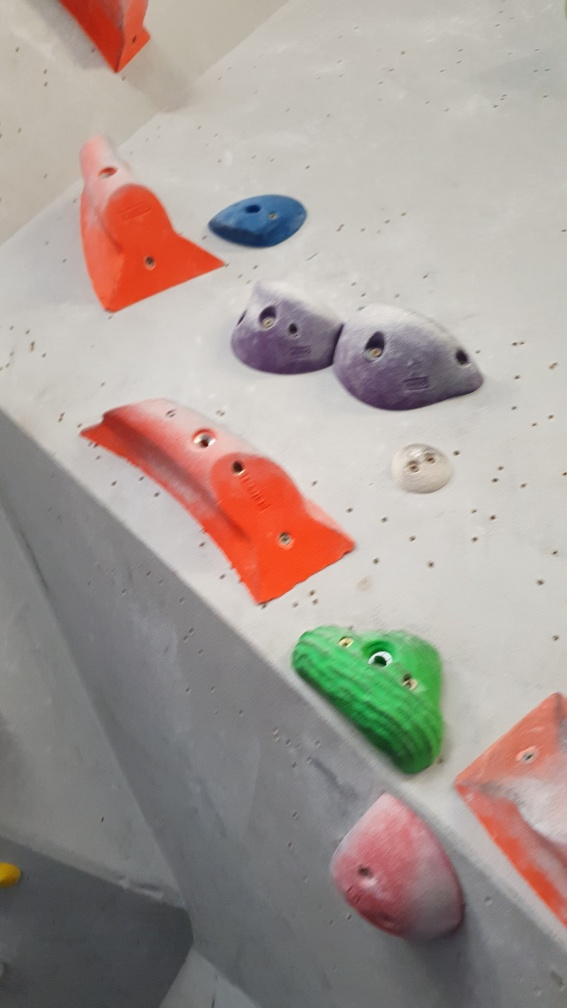Crimp: (205, 192, 311, 254)
Jug: (290, 621, 453, 773), (335, 304, 491, 409), (227, 275, 349, 380)
Pinch: (81, 395, 358, 609), (73, 132, 233, 315), (449, 692, 567, 934), (46, 1, 156, 75)
